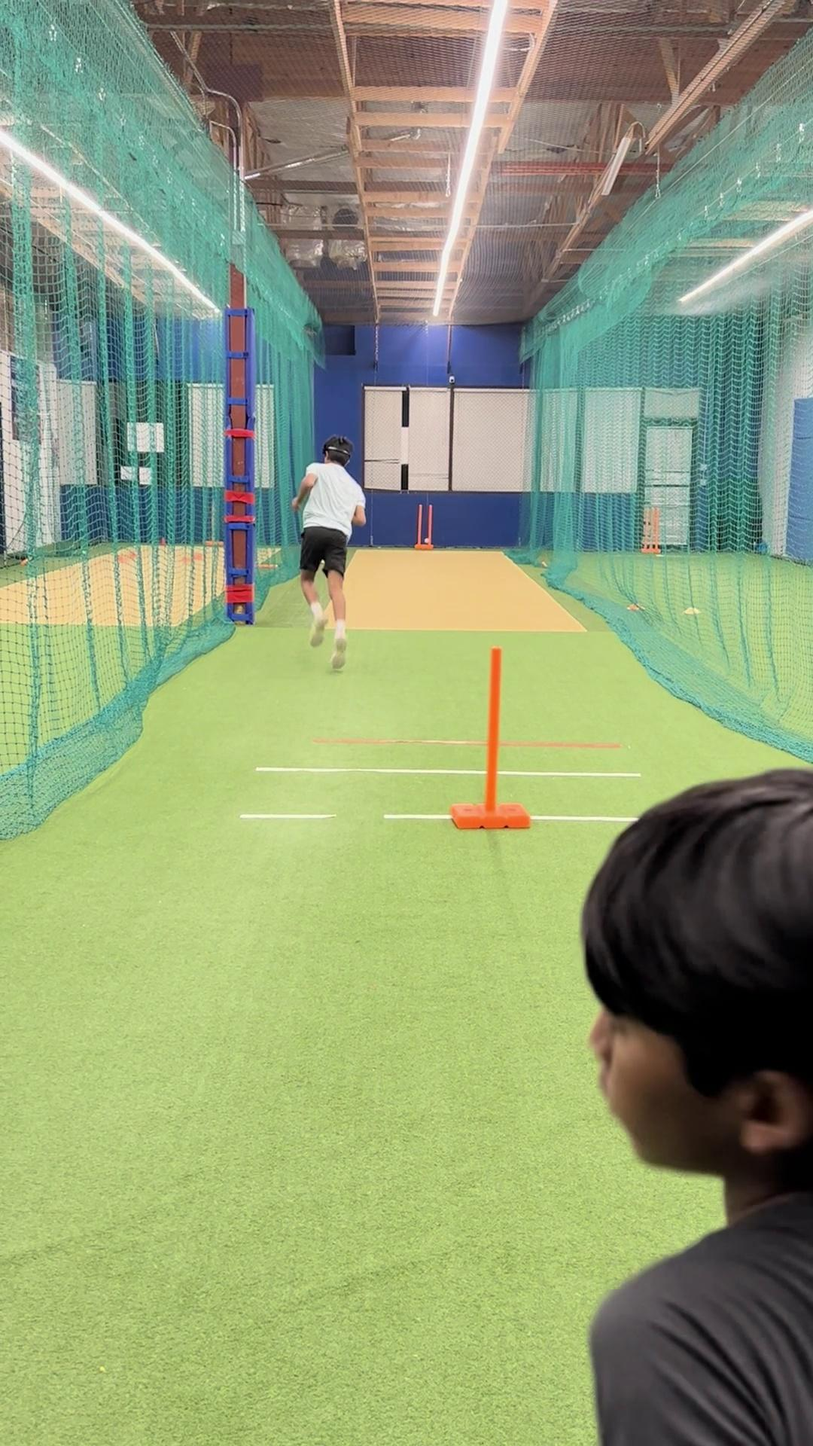ball: (421, 534, 432, 547)
